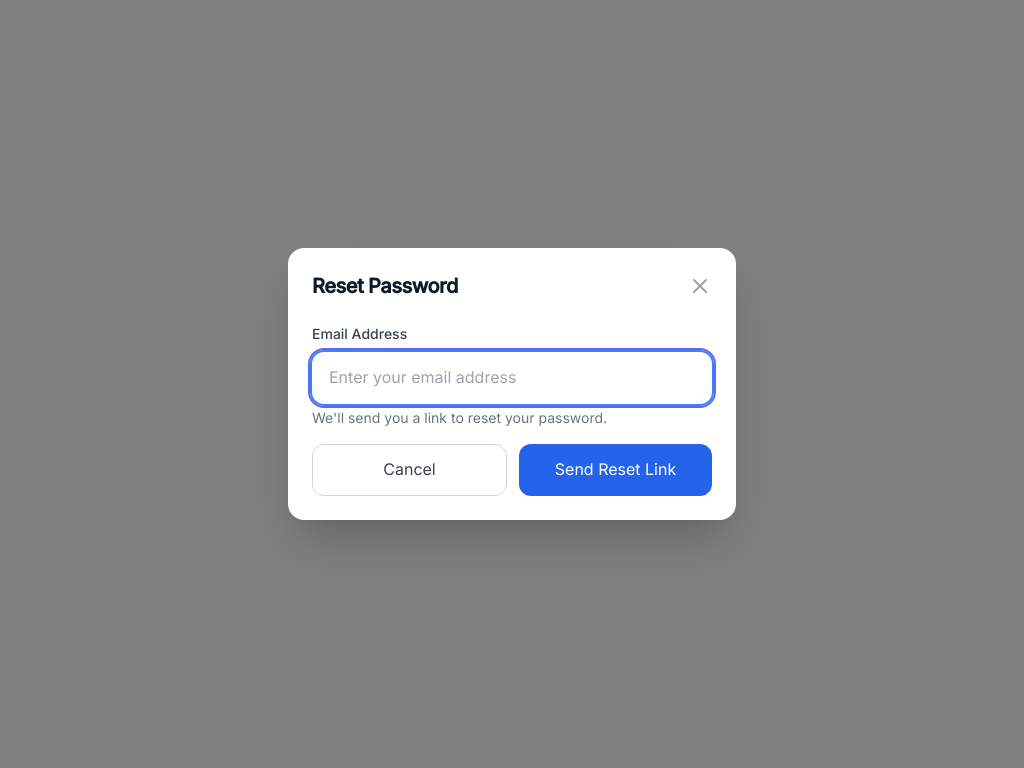
Scenario: PasswordRecovery — submission and feedback › shows a connection message when the server is unreachable
Step 1. Type "shopper@example.com" into the field labelled "Email Address" → (512, 378), box [312, 352, 712, 404]
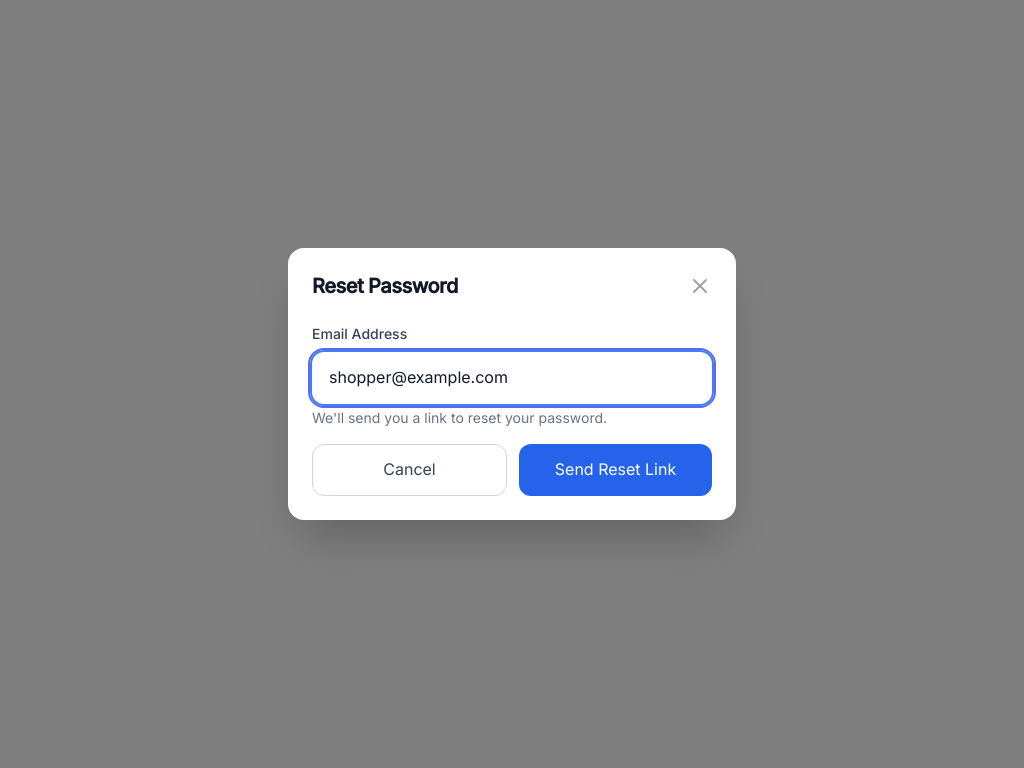
Step 2. Click the button "Send Reset Link" → (616, 470), box [519, 444, 712, 496]
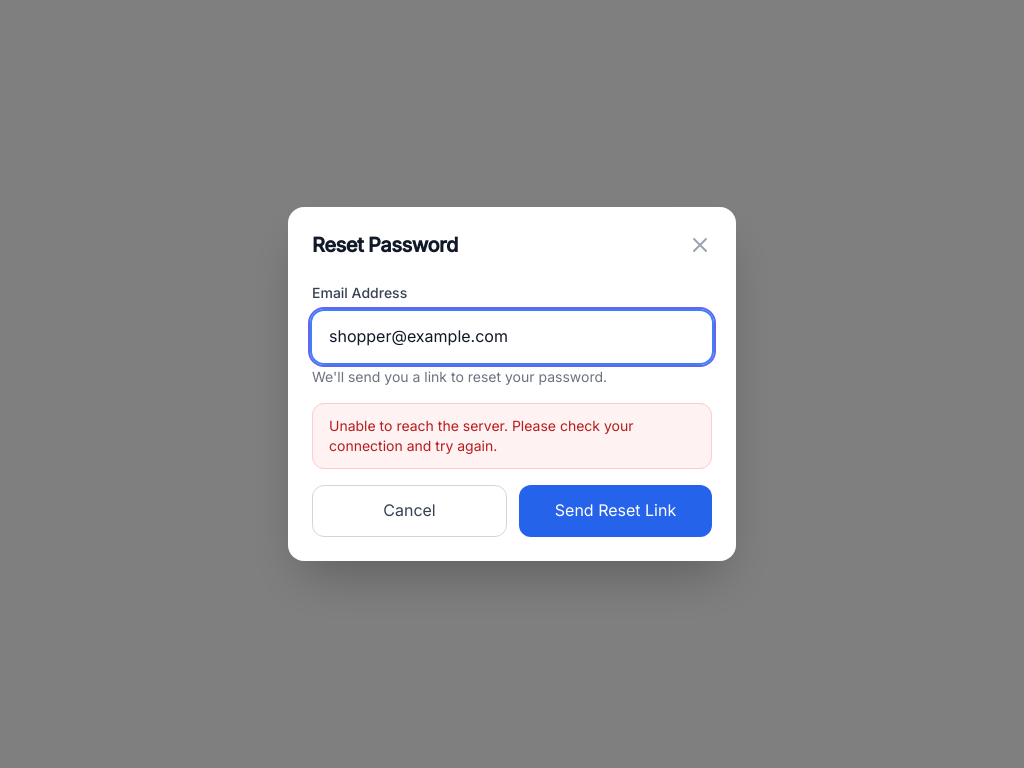
Check: the text "Unable to reach the server. Please check your connection and try again." is shown, box [312, 403, 712, 469]
